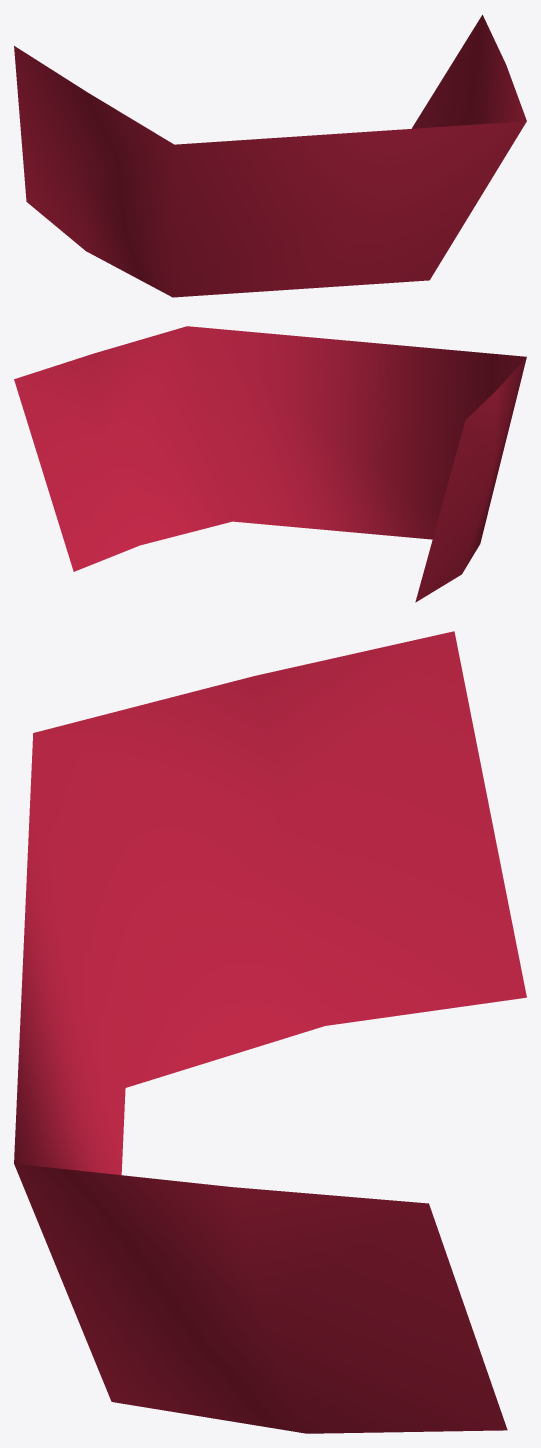
3 renders of one model, top to bottom at view 1: azimuth 30°, elevation 25°; view 2: azimuth 150°, elevation 25°; view 3: azimuth 270°, elevation 25°, orthographic. The views are drawn at different scales.
Visible parts, largest first — view 1: ef_436; view 2: ef_436; view 3: ef_436.
Part boxes in pixels (box(x1,y1,x2,y2)): ef_436: box(14, 15, 526, 297); ef_436: box(14, 326, 526, 602); ef_436: box(14, 631, 526, 1433).
Size of the model in its own units: 0.7612 by 0.3905 by 0.3864.
1 material, 1 textured.
